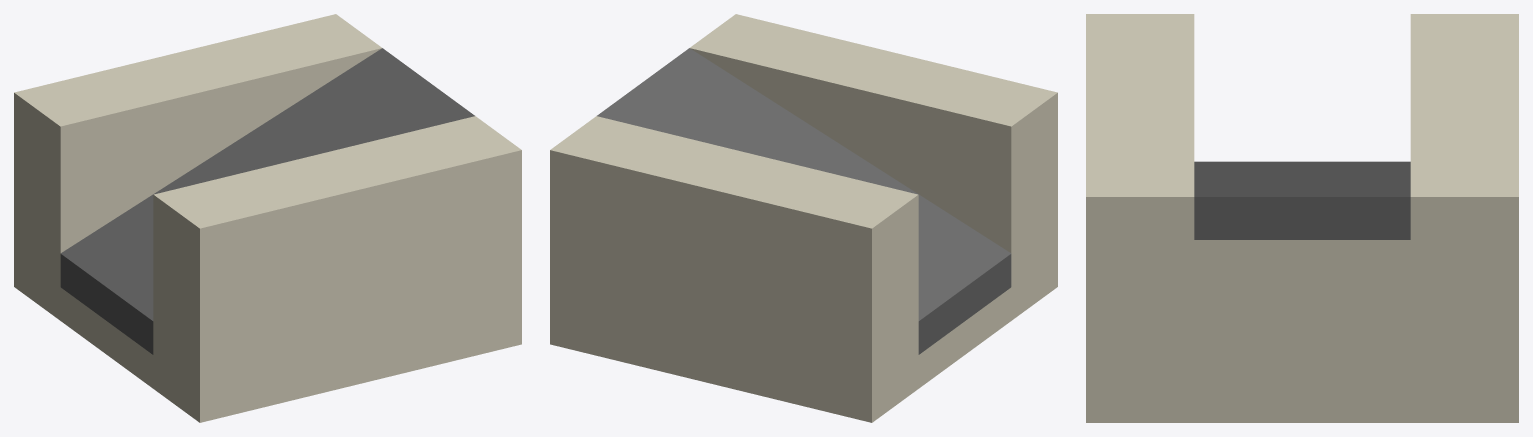
File: tile015.fbx
3 renders of one model, left to right at view 1: azimuth 30°, elevation 25°; view 2: azimuth 150°, elevation 25°; view 3: azimuth 270°, elevation 25°, orthographic. The views are drawn at different scales.
Parts seen in each view (by area): view 1: tile015; view 2: tile015; view 3: tile015.
Part boxes in pixels (<box>): tile015: <box>14,14,521,422</box>; tile015: <box>550,14,1057,422</box>; tile015: <box>1086,14,1518,422</box>.
Size of the model in its own units: 10 by 5.77 by 10.
